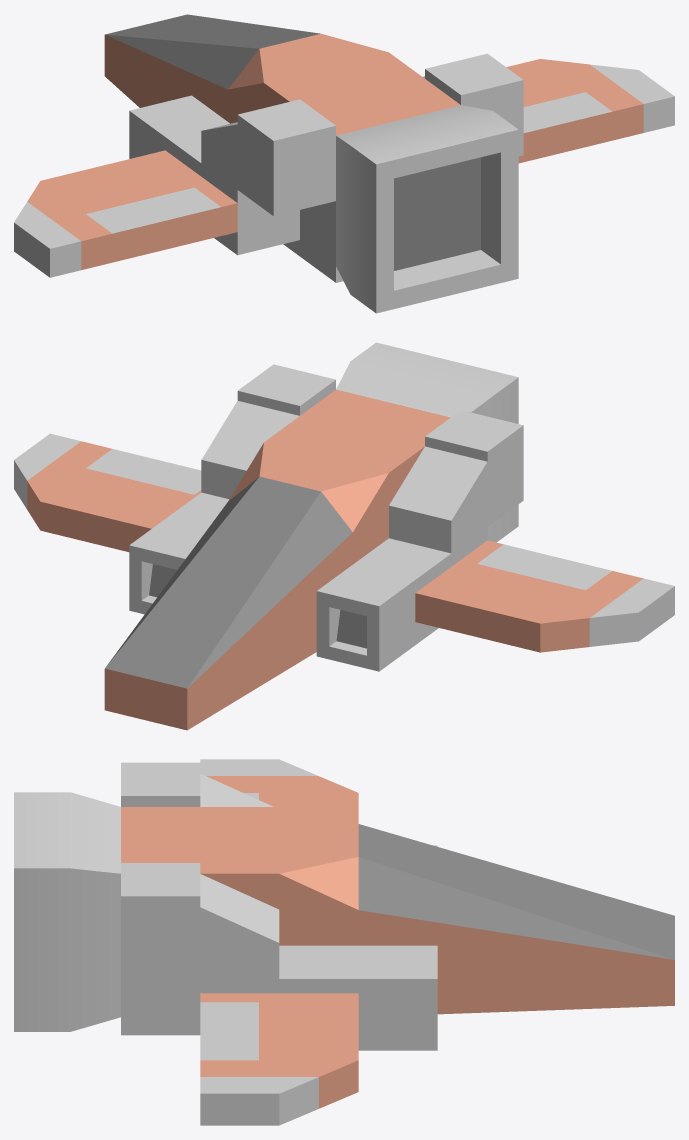
Rendered from spaceCraft1.glb.
3 views of the same model, one above another, from view 1: azimuth 30°, elevation 25°; view 2: azimuth 150°, elevation 25°; view 3: azimuth 270°, elevation 25° (orthographic). The views are drawn at different scales.
Visible parts, largest first — view 1: spaceCraft1_8angles; view 2: spaceCraft1_8angles; view 3: spaceCraft1_8angles.
Boxes of the visible parts, x1,y1,x2,y2 form: spaceCraft1_8angles: [14, 14, 674, 313]; spaceCraft1_8angles: [14, 342, 674, 730]; spaceCraft1_8angles: [14, 759, 674, 1125].
Size of the model in its own units: 19.75 by 4.75 by 16.5.
